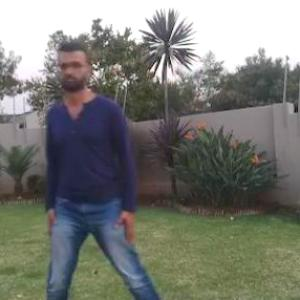follow: (43, 34, 150, 299)
